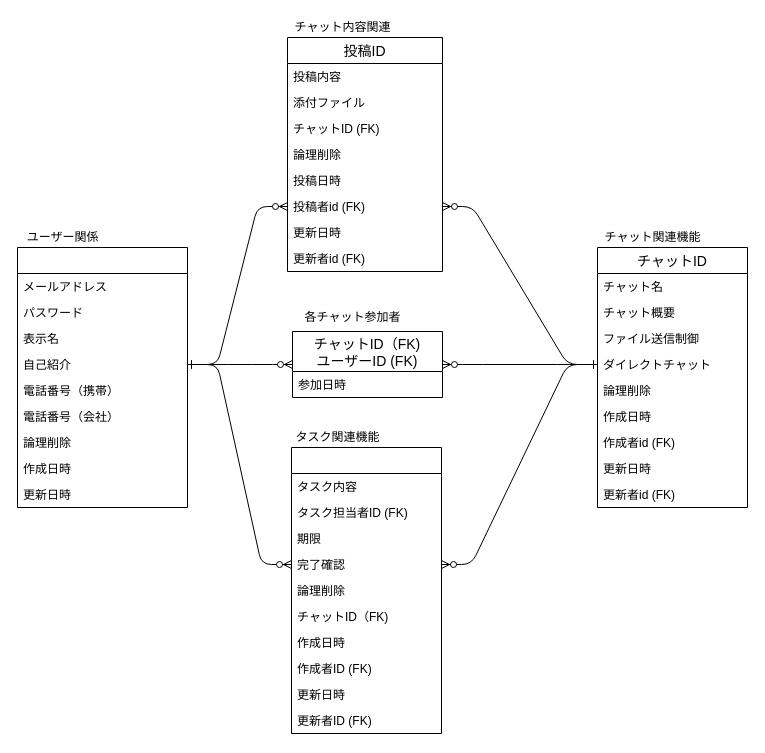
Some shapes in this 765 by 753 pixel diagram are drawn without their labels. The shapes that lost their labels are listed below. From the top down, each one's box as (x1, y1, x2, y2) in pixels, then its label:
(16, 246, 188, 508): ユーザーID
(290, 446, 442, 734): タスクID
